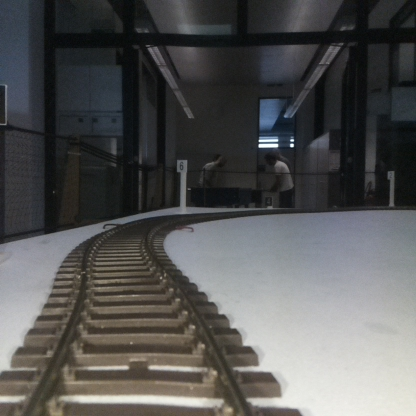white-info-6: (177, 159, 187, 212)
